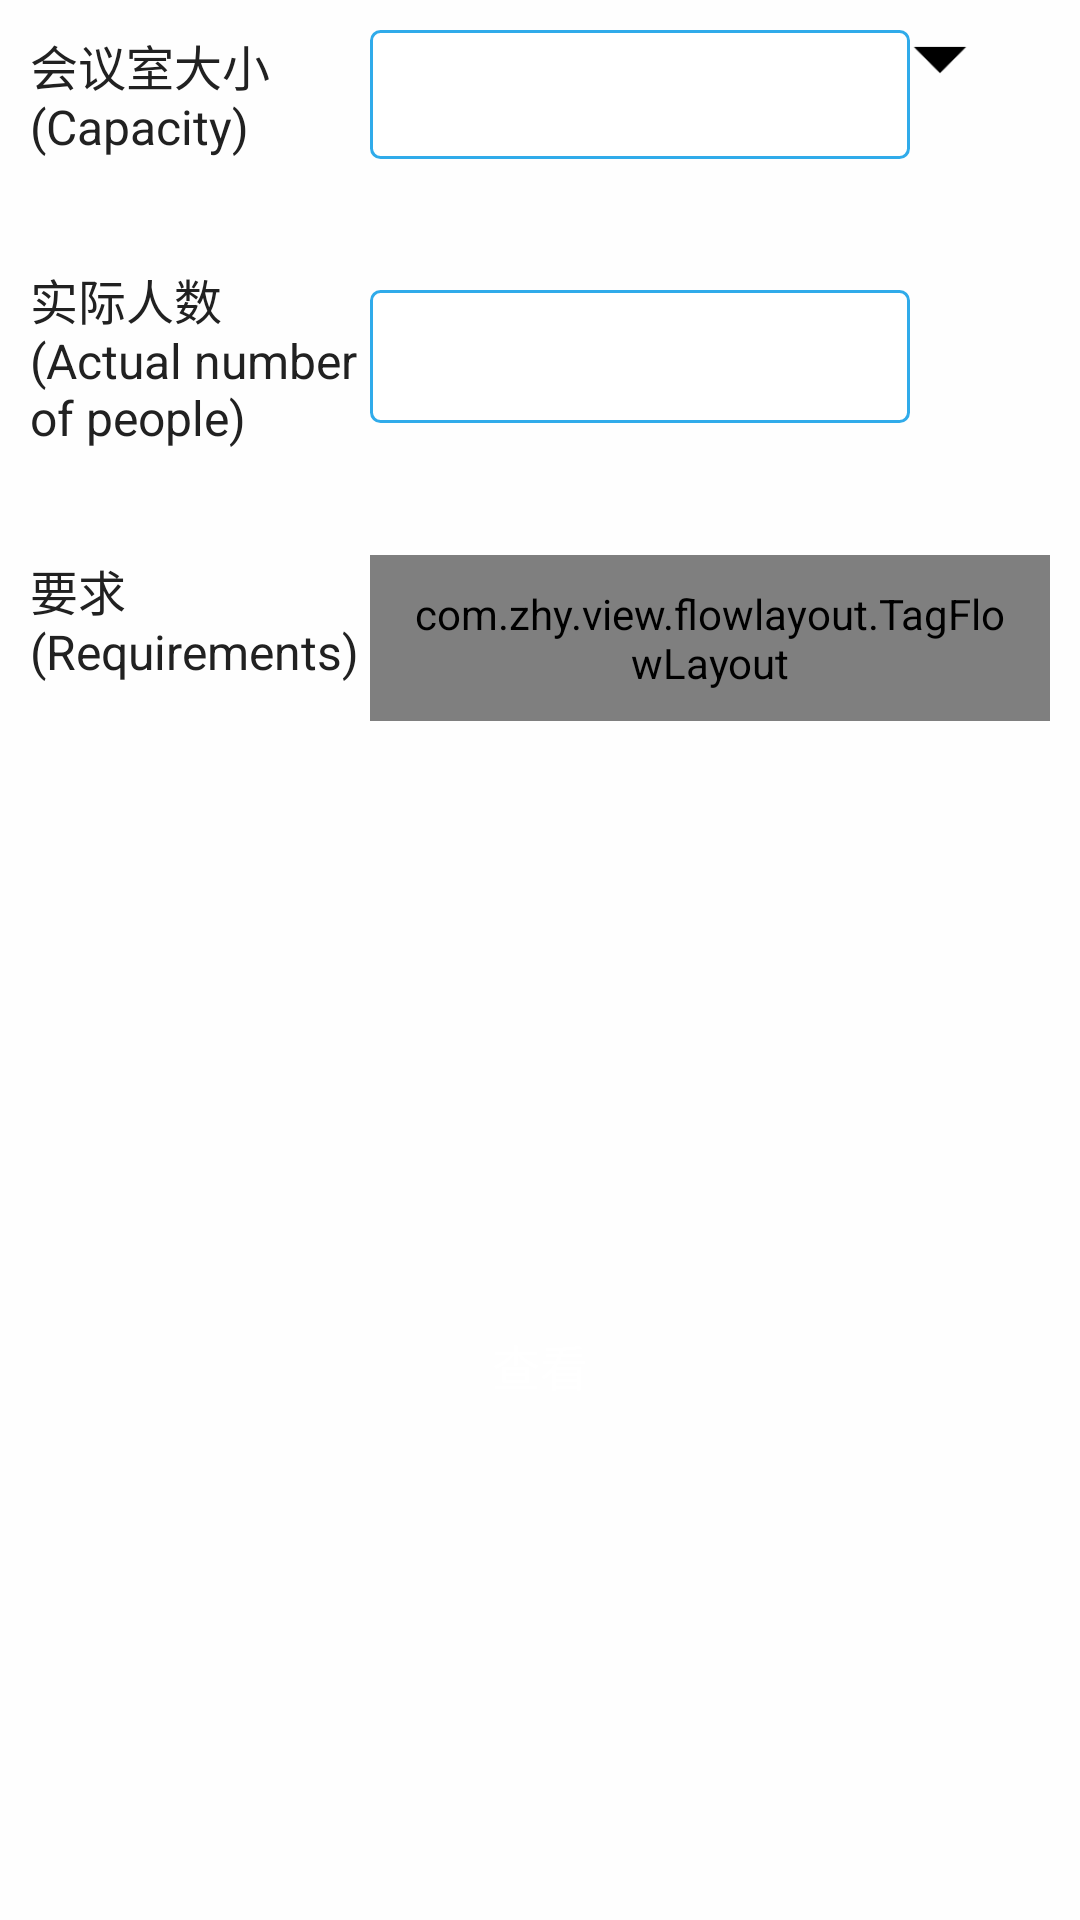

Where icons sit on this 1080px×1920px app screen, as (x1, y1, x2, y2):
arrow down: (914, 46, 966, 73)
